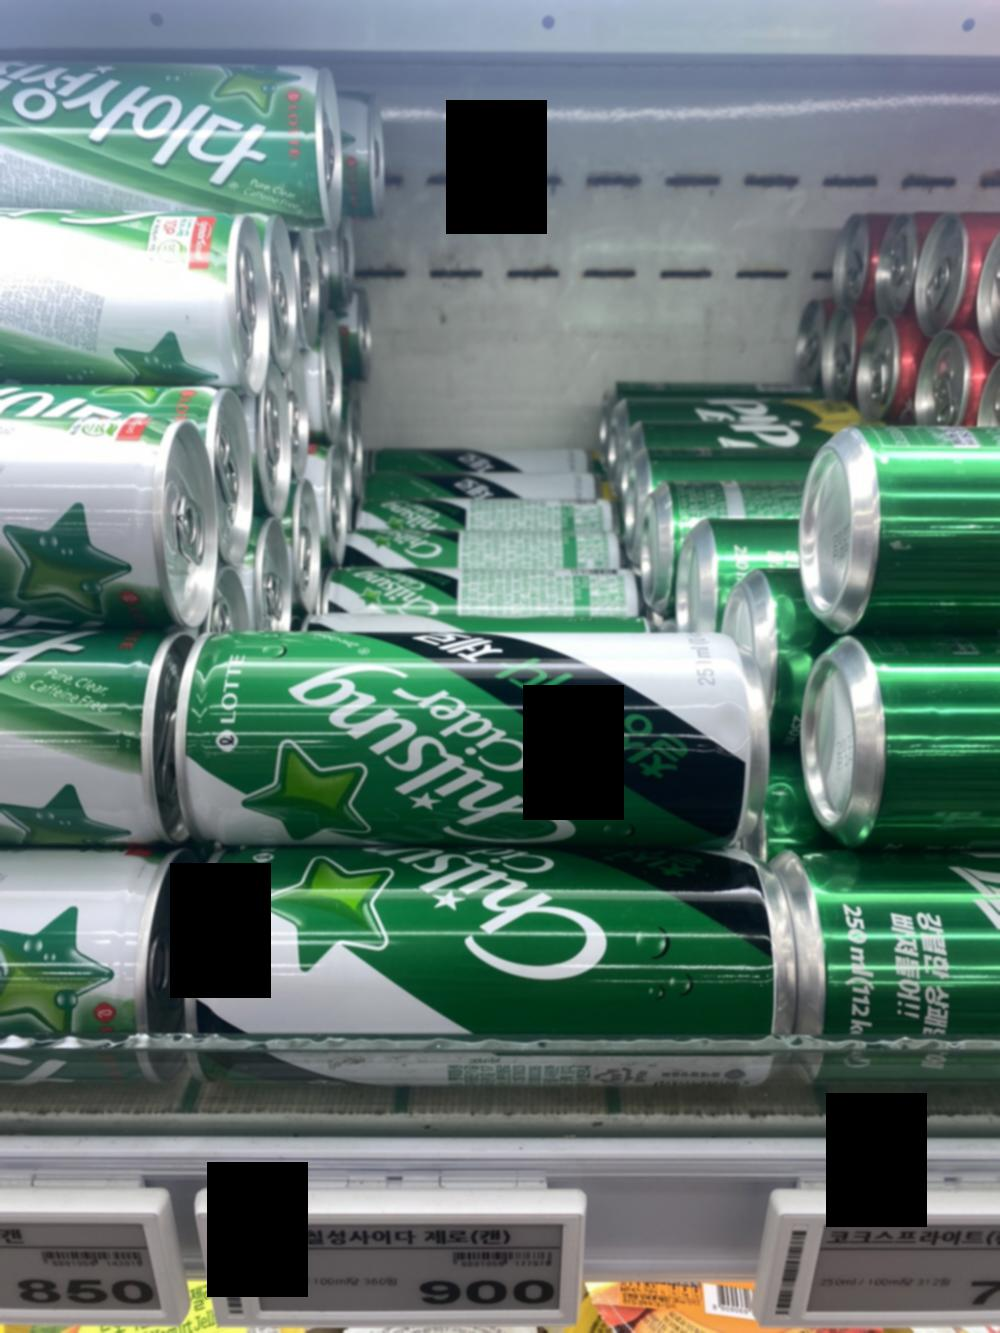chilsungcider_zero: (178, 634, 771, 843)
